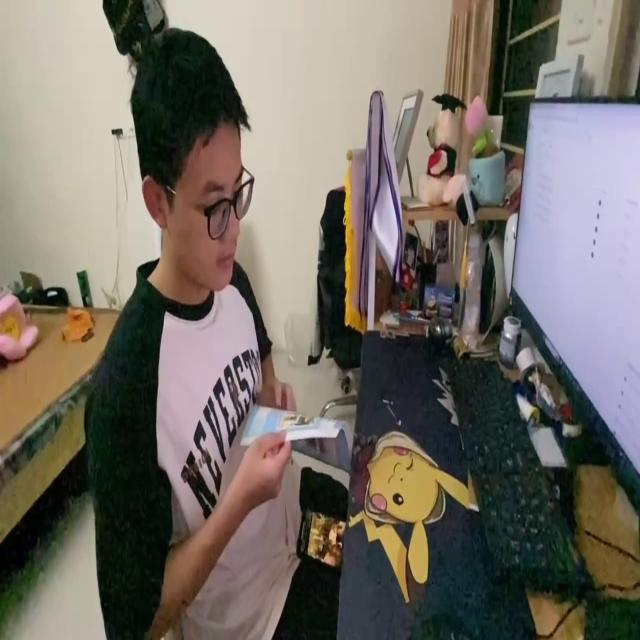book: (238, 389, 350, 485)
laptop: (510, 89, 640, 512)
phone: (298, 500, 345, 576)
student: (80, 19, 347, 640)
